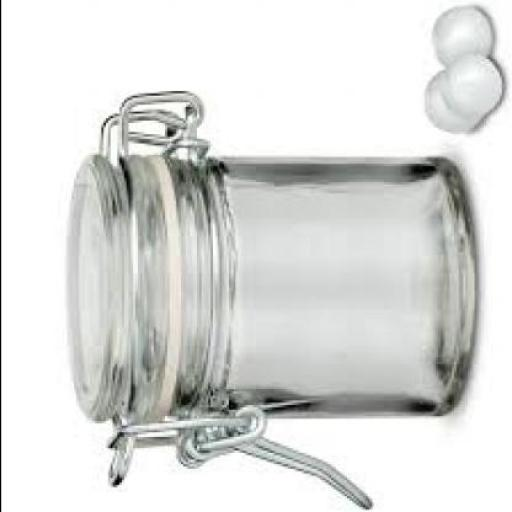glass: (63, 89, 471, 421)
metal: (102, 414, 368, 503)
